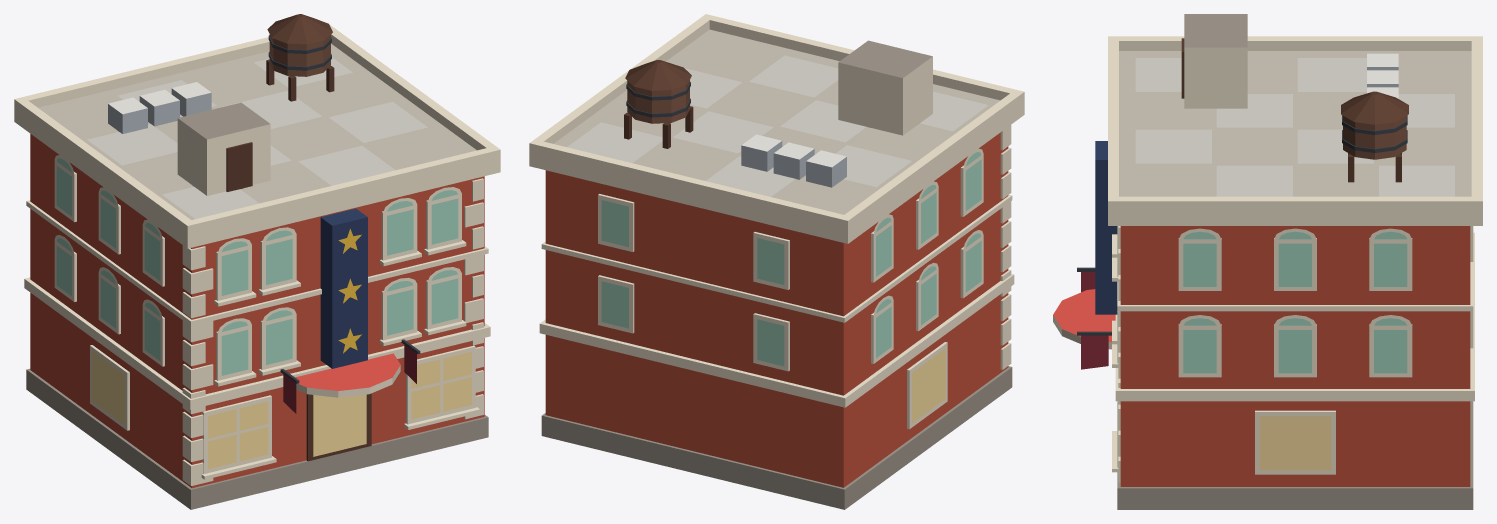
File: B_GrandHotel.fbx
3 renders of one model, left to right at view 1: azimuth 30°, elevation 25°; view 2: azimuth 150°, elevation 25°; view 3: azimuth 270°, elevation 25°, orthographic. The views are drawn at different scales.
Parts seen in each view (by area): view 1: B_GrandHotel; view 2: B_GrandHotel; view 3: B_GrandHotel.
Part boxes in pixels (left/top/right/bottom): B_GrandHotel: left=14, top=14, right=500, bottom=509; B_GrandHotel: left=529, top=14, right=1024, bottom=509; B_GrandHotel: left=1053, top=14, right=1482, bottom=509.
Size of the model in its own units: 4.92 by 5.28 by 5.41.
